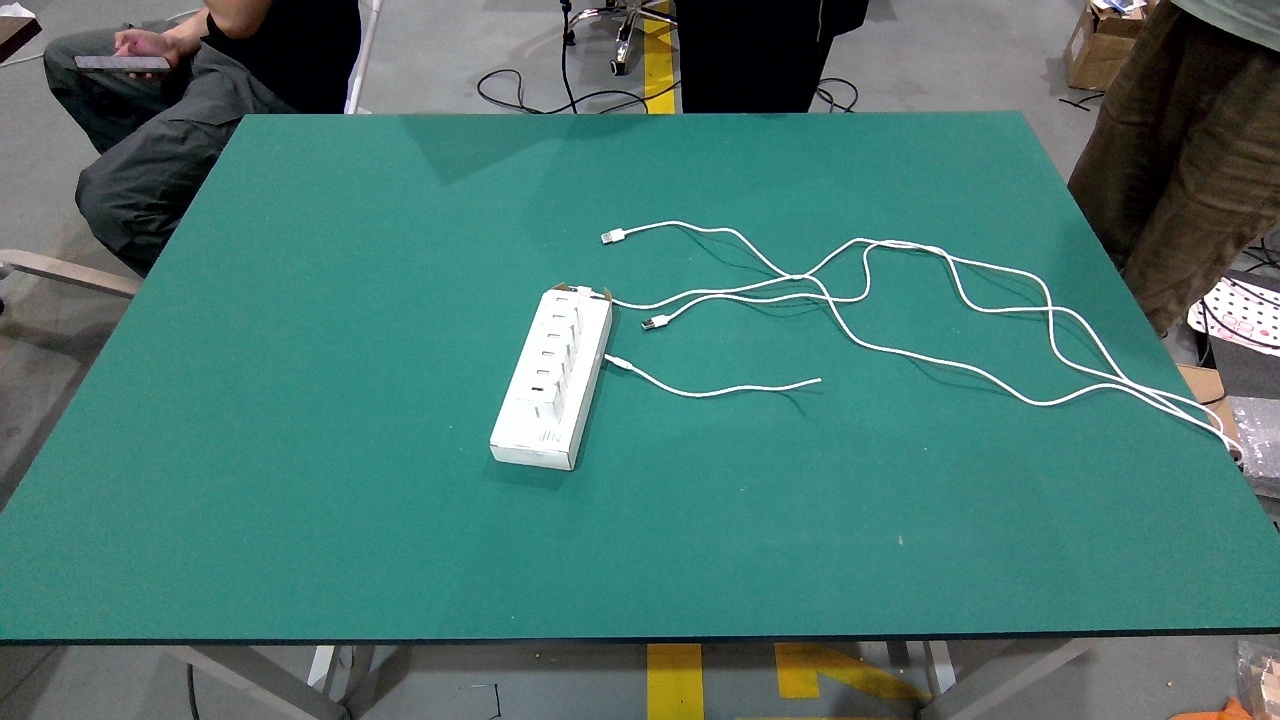usb_a_port: (530, 384, 545, 393), (541, 350, 556, 357), (548, 333, 561, 340), (536, 369, 550, 375), (555, 297, 568, 302), (553, 314, 565, 319)
